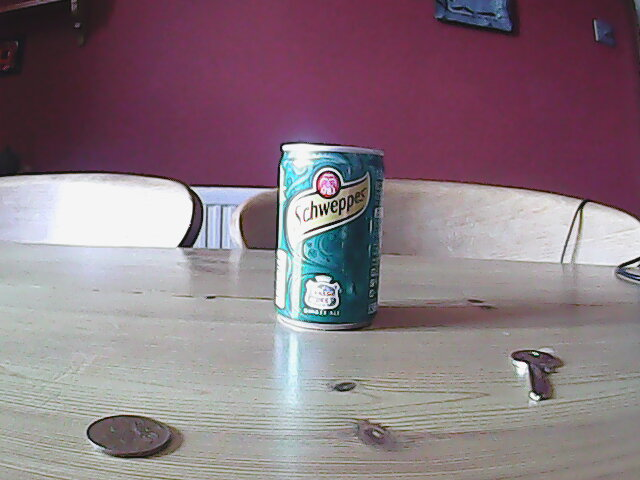Can: (266, 140, 389, 337)
Coin: (86, 411, 175, 458)
Key: (510, 345, 563, 407)
